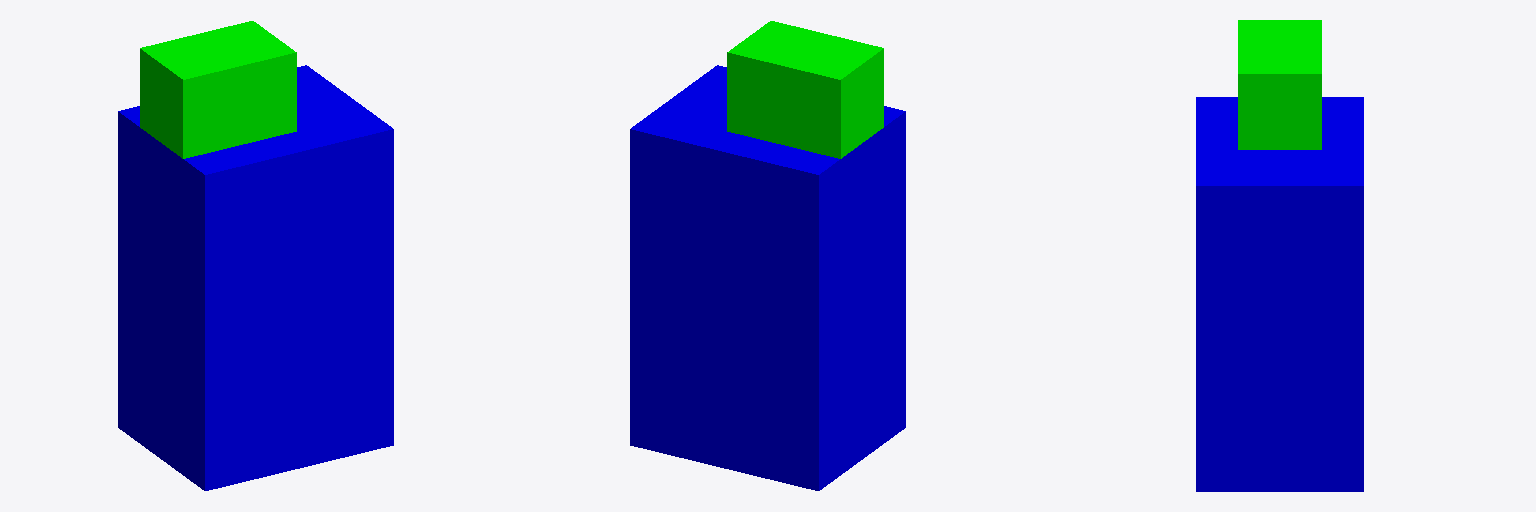
URDF robot description (robot):
<robot name = "robot">
    <link name="root">
        <inertial>
            <origin xyz="0.0 0.0 1.5" rpy="0 0 0"/>
            <mass value="1" />
            <inertia ixx="100" ixy="0" ixz="0" iyy="100" iyz="0" izz="100" />
        </inertial>
        <visual>
            <origin xyz="0.0 0.0 1.5" rpy="0 0 0"/>
            <geometry>
                <box size="0 0 0.0001" />
            </geometry>
            <material name="Green">
                <color rgba="0 1.0 0.0 1.0"/>
            </material>
        </visual>
        <collision>
            <origin xyz="0.0 0.0 1.5" rpy="0 0 0"/>
            <geometry>
                <box size="0 0 0.0001" />
            </geometry>
        </collision>
    </link>
    <joint name="root_000" type="revolute">
       <parent link="root"/>
       <child  link="000"/>
       <origin rpy="0 0 0" xyz="0.0 0.0 1.5" />
     <axis xyz="1 0 0"/>
       <limit effort="0.0" lower="-3.14159" upper="3.14159" velocity="0.0"/>
    </joint>
    <link name="000">
        <inertial>
            <origin xyz="0.05 0.0 0.0" rpy="0 0 0"/>
            <mass value="1" />
            <inertia ixx="100" ixy="0" ixz="0" iyy="100" iyz="0" izz="100" />
        </inertial>
        <visual>
            <origin xyz="0.05 0.0 0.0" rpy="0 0 0"/>
            <geometry>
                <box size="0.1 0.2 0.2" />
            </geometry>
            <material name="Green">
                <color rgba="0 1.0 0.0 1.0"/>
            </material>
        </visual>
        <collision>
            <origin xyz="0.05 0.0 0.0" rpy="0 0 0"/>
            <geometry>
                <box size="0.1 0.2 0.2" />
            </geometry>
        </collision>
    </link>
    <joint name="000_010" type="revolute">
       <parent link="000"/>
       <child  link="010"/>
       <origin rpy="0 0 0" xyz="0.1 0.0 -0.0" />
     <axis xyz="1 0 0"/>
       <limit effort="0.0" lower="-3.14159" upper="3.14159" velocity="0.0"/>
    </joint>
    <link name="010">
        <inertial>
            <origin xyz="0.05 0.0 -0.0" rpy="0 0 0"/>
            <mass value="1" />
            <inertia ixx="100" ixy="0" ixz="0" iyy="100" iyz="0" izz="100" />
        </inertial>
        <visual>
            <origin xyz="0.05 0.0 -0.0" rpy="0 0 0"/>
            <geometry>
                <box size="0.1 0.2 0.2" />
            </geometry>
            <material name="Green">
                <color rgba="0 1.0 0.0 1.0"/>
            </material>
        </visual>
        <collision>
            <origin xyz="0.05 0.0 -0.0" rpy="0 0 0"/>
            <geometry>
                <box size="0.1 0.2 0.2" />
            </geometry>
        </collision>
    </link>
    <joint name="010_020" type="revolute">
       <parent link="010"/>
       <child  link="020"/>
       <origin rpy="0 0 0" xyz="0.1 0.0 -0.0" />
     <axis xyz="1 0 0"/>
       <limit effort="0.0" lower="-3.14159" upper="3.14159" velocity="0.0"/>
    </joint>
    <link name="020">
        <inertial>
            <origin xyz="0.05 0.0 -0.0" rpy="0 0 0"/>
            <mass value="1" />
            <inertia ixx="100" ixy="0" ixz="0" iyy="100" iyz="0" izz="100" />
        </inertial>
        <visual>
            <origin xyz="0.05 0.0 -0.0" rpy="0 0 0"/>
            <geometry>
                <box size="0.1 0.2 0.2" />
            </geometry>
            <material name="Green">
                <color rgba="0 1.0 0.0 1.0"/>
            </material>
        </visual>
        <collision>
            <origin xyz="0.05 0.0 -0.0" rpy="0 0 0"/>
            <geometry>
                <box size="0.1 0.2 0.2" />
            </geometry>
        </collision>
    </link>
    <joint name="020_020-100" type="revolute">
       <parent link="020"/>
       <child  link="020-100"/>
       <origin rpy="0 0 0" xyz="0.05 0.0 -0.1" />
     <axis xyz="0 0 1"/>
       <limit effort="0.0" lower="-3.14159" upper="3.14159" velocity="0.0"/>
    </joint>
    <link name="020-100">
        <inertial>
            <origin xyz="0.0 0.0 -0.2" rpy="0 0 0"/>
            <mass value="1" />
            <inertia ixx="100" ixy="0" ixz="0" iyy="100" iyz="0" izz="100" />
        </inertial>
        <visual>
            <origin xyz="0.0 0.0 -0.2" rpy="0 0 0"/>
            <geometry>
                <box size="0.5 0.4 0.4" />
            </geometry>
            <material name="Blue">
                <color rgba="0 0.0 1.0 1.0"/>
            </material>
        </visual>
        <collision>
            <origin xyz="0.0 0.0 -0.2" rpy="0 0 0"/>
            <geometry>
                <box size="0.5 0.4 0.4" />
            </geometry>
        </collision>
    </link>
    <joint name="020-100_020-110" type="revolute">
       <parent link="020-100"/>
       <child  link="020-110"/>
       <origin rpy="0 0 0" xyz="0.0 0.0 -0.4" />
     <axis xyz="0 0 1"/>
       <limit effort="0.0" lower="-3.14159" upper="3.14159" velocity="0.0"/>
    </joint>
    <link name="020-110">
        <inertial>
            <origin xyz="0.0 0.0 -0.2" rpy="0 0 0"/>
            <mass value="1" />
            <inertia ixx="100" ixy="0" ixz="0" iyy="100" iyz="0" izz="100" />
        </inertial>
        <visual>
            <origin xyz="0.0 0.0 -0.2" rpy="0 0 0"/>
            <geometry>
                <box size="0.5 0.4 0.4" />
            </geometry>
            <material name="Blue">
                <color rgba="0 0.0 1.0 1.0"/>
            </material>
        </visual>
        <collision>
            <origin xyz="0.0 0.0 -0.2" rpy="0 0 0"/>
            <geometry>
                <box size="0.5 0.4 0.4" />
            </geometry>
        </collision>
    </link>
</robot>

--- What the picture shows (computed from the rendered views, not written in the file) ---
Views: 3 orthographic renders of the robot side by side, from view 1: azimuth 30°, elevation 25°; view 2: azimuth 150°, elevation 25°; view 3: azimuth 270°, elevation 25°.
Robot: robot — 6 links, 5 joints (5 revolute); root link root; default pose: all joints at 0.
Visible links, largest first — view 1: 020-100, 020-110, 000, 010, 020; view 2: 020-100, 020-110, 000, 010, 020; view 3: 020-100, 020-110, 020, 000, 010.
Boxes of the visible links, left/top/right/bottom form: 020-100: left=118, top=65, right=393, bottom=332; 020-110: left=118, top=270, right=393, bottom=490; 000: left=140, top=39, right=220, bottom=158; 010: left=178, top=30, right=258, bottom=149; 020: left=216, top=21, right=296, bottom=140; 020-100: left=630, top=65, right=905, bottom=332; 020-110: left=630, top=270, right=905, bottom=490; 000: left=803, top=39, right=883, bottom=158; 010: left=765, top=30, right=845, bottom=149; 020: left=727, top=21, right=807, bottom=140; 020-100: left=1196, top=97, right=1363, bottom=338; 020-110: left=1196, top=339, right=1363, bottom=491; 020: left=1238, top=56, right=1321, bottom=149; 000: left=1238, top=20, right=1321, bottom=37; 010: left=1238, top=38, right=1321, bottom=55.
Bounding box of the posed robot: 0.5 × 0.4 × 1 m (x, y, z).
Geometry: primitives only (box / cylinder / sphere), no mesh files.